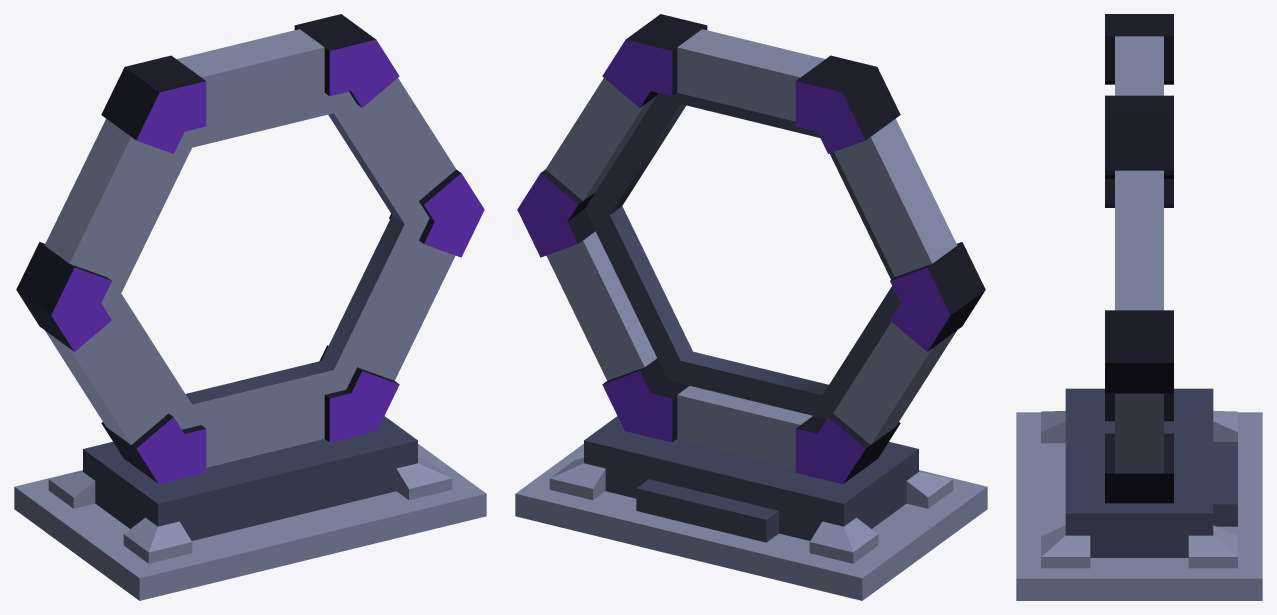
File: gate-complex.t1.bd14ec5a.glb
The picture shows the model from 3 angles, left to right: view 1: azimuth 30°, elevation 25°; view 2: azimuth 150°, elevation 25°; view 3: azimuth 270°, elevation 25°; orthographic projection.
Size of the model in its own units: 1.33 by 1.34 by 0.6628.
